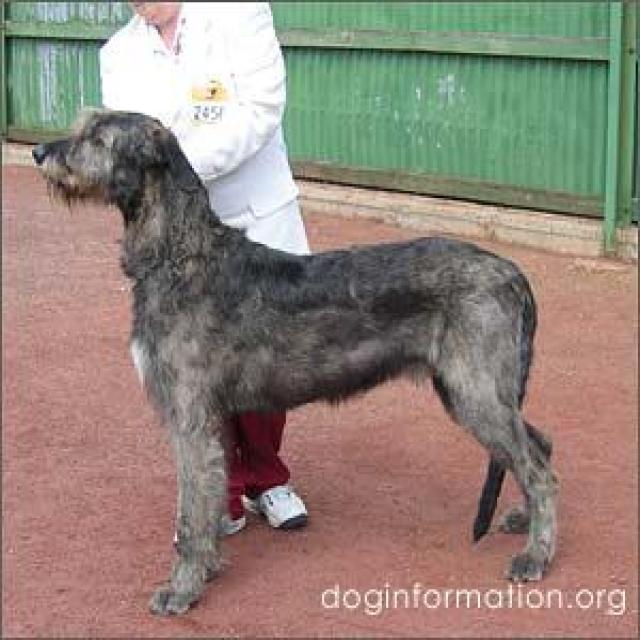irish_wolfhound: (32, 110, 563, 620)
